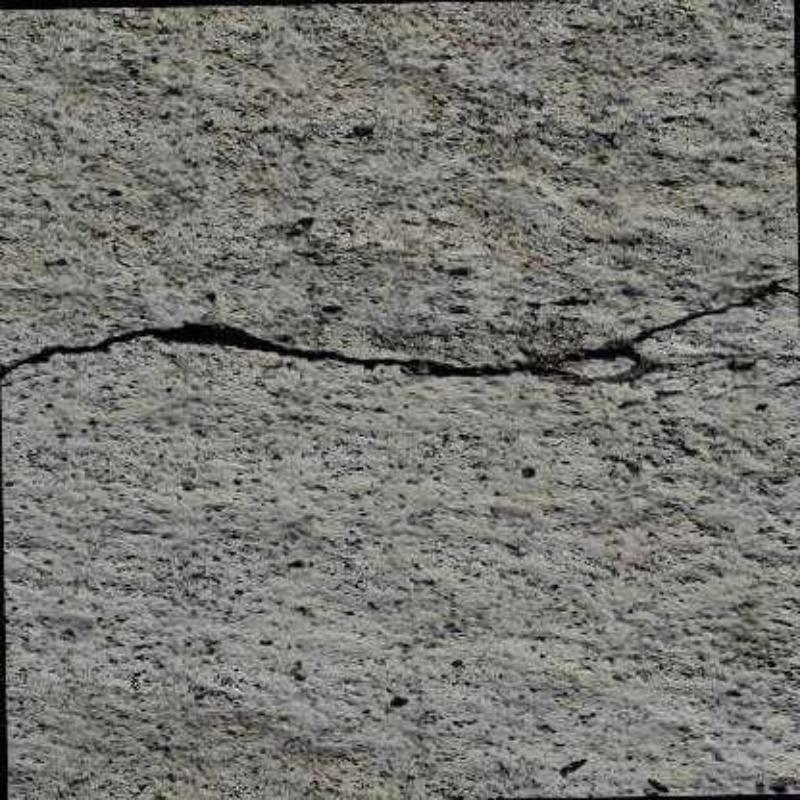pothole: (0, 287, 798, 379), (531, 352, 679, 387)
